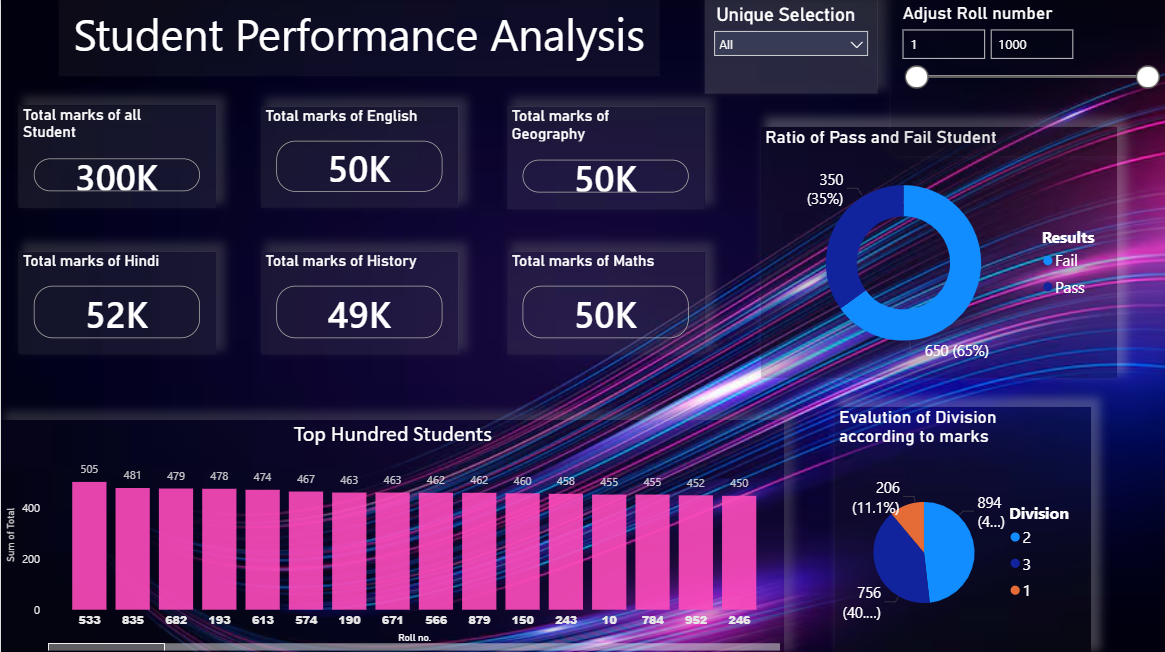

What the dashboard file says about the page in this screenshot:
{"tool":"powerbi","page":{"name":"Page 1","canvas":[1280,720],"ordinal":0},"visuals":[{"type":"cardVisual","title":"Total marks of all Student","fields":{"Data":["Sum(results.Total)"]},"box":[19.2,116.6,216.8,112.5],"z":0},{"type":"clusteredColumnChart","title":"Top Hundred Students","fields":{"Y":["Sum(results.Total)"],"Category":["results.Roll no."]},"box":[0,462.4,860.4,258],"z":1000},{"type":"cardVisual","title":"Total marks of Geography","fields":{"Data":["Sum(results.Geography)"]},"box":[555.7,118,216.8,112.5],"z":2000},{"type":"cardVisual","title":"Total marks of English","fields":{"Data":["Sum(results.English)"]},"box":[285.4,118,216.8,111.1],"z":3000},{"type":"cardVisual","title":"Total marks of Maths","fields":{"Data":["Sum(results.Maths)"]},"box":[555.7,277.2,216.8,112.5],"z":4000},{"type":"cardVisual","title":"Total marks of History","fields":{"Data":["Sum(results.History)"]},"box":[285.4,277.2,216.8,112.5],"z":5000},{"type":"cardVisual","title":"Total marks of Hindi","fields":{"Data":["Sum(results.Hindi)"]},"box":[19.2,277.2,216.8,112.5],"z":6000},{"type":"donutChart","title":"Ratio of Pass and Fail Student ","fields":{"Category":["results.Results"],"Y":["CountNonNull(results.Results)"]},"box":[834.3,140,391.1,275.8],"z":7000},{"type":"pieChart","title":"Evalution of Division according to marks","fields":{"Category":["results.Div"],"Y":["Sum(results.Div)"]},"box":[915.3,447.3,281.3,273.1],"z":8000},{"type":"textbox","box":[63.1,0,660,85.1],"z":9000},{"type":"slicer","fields":{"Values":["results.Roll no."]},"box":[977,0,303.3,172.9],"z":10000},{"type":"slicer","fields":{"Values":["results.Roll no."]},"box":[772.6,0,189.4,104.3],"z":10001}]}

Visuals, with their boxes in screenshot pixels (x1, y1, x2, y2), scaled from the page's 1280x720 canvas onto the 1165x652 screenshot:
"Total marks of all Student" cardVisual: rect(17, 106, 215, 207)
"Top Hundred Students" clusteredColumnChart: rect(0, 419, 783, 651)
"Total marks of Geography" cardVisual: rect(506, 107, 703, 209)
"Total marks of English" cardVisual: rect(260, 107, 457, 207)
"Total marks of Maths" cardVisual: rect(506, 251, 703, 353)
"Total marks of History" cardVisual: rect(260, 251, 457, 353)
"Total marks of Hindi" cardVisual: rect(17, 251, 215, 353)
"Ratio of Pass and Fail Student " donutChart: rect(759, 127, 1115, 377)
"Evalution of Division according to marks" pieChart: rect(833, 405, 1089, 651)
textbox: rect(57, 0, 658, 77)
slicer - results.Roll no.: rect(889, 0, 1164, 157)
slicer - results.Roll no.: rect(703, 0, 876, 94)
